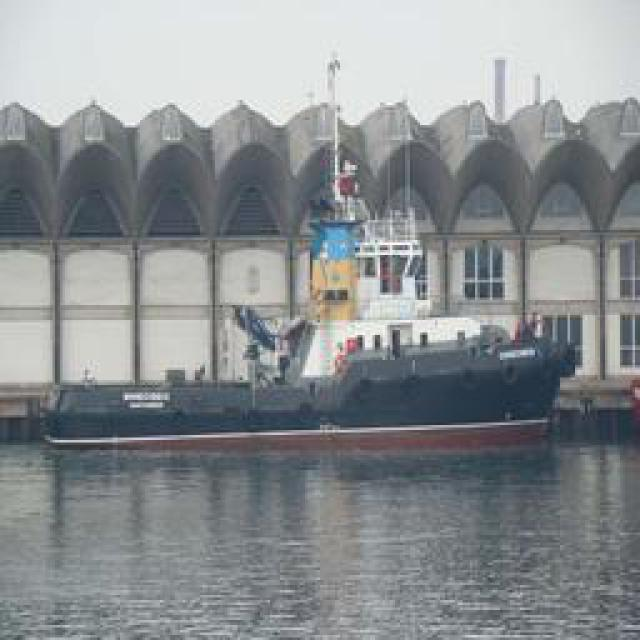Ship: (33, 334, 568, 454)
